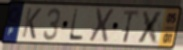3: (43, 7, 62, 41)
K: (20, 6, 43, 41)
L: (67, 7, 85, 42)
T: (122, 9, 141, 44)
X: (135, 10, 166, 46), (88, 7, 115, 44)
